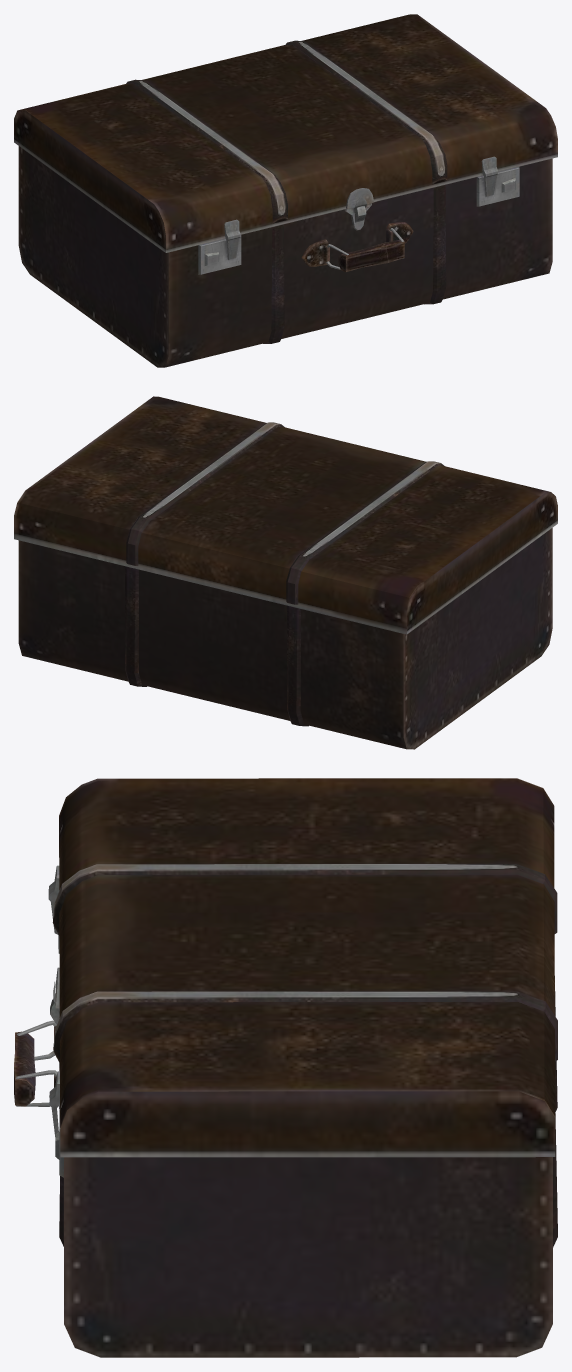
File: Suitcase.fbx
3 views of the same model, one above another, from view 1: azimuth 30°, elevation 25°; view 2: azimuth 150°, elevation 25°; view 3: azimuth 270°, elevation 25° (orthographic). The views are drawn at different scales.
Visible parts, largest first — view 1: SuitCase; view 2: SuitCase; view 3: SuitCase.
Boxes of the visible parts, bbox=[...] form: SuitCase: bbox=[14, 14, 557, 367]; SuitCase: bbox=[14, 396, 557, 749]; SuitCase: bbox=[14, 778, 557, 1357].
Size of the model in its own units: 0.8372 by 0.3434 by 0.6145.
Materials: 1 (1 with a texture image).
